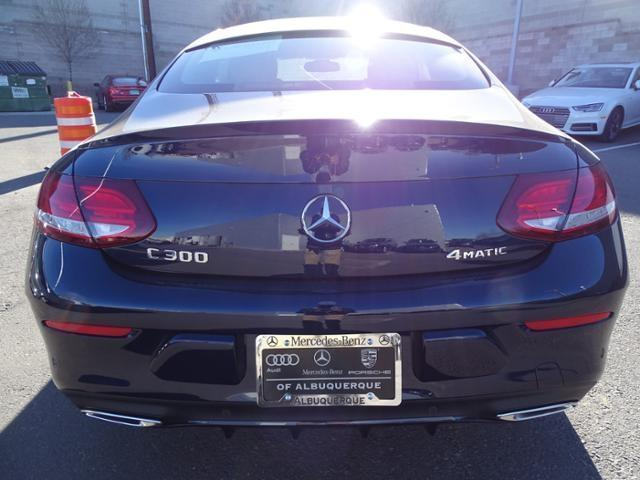C300Coupe: (20, 13, 633, 435)
